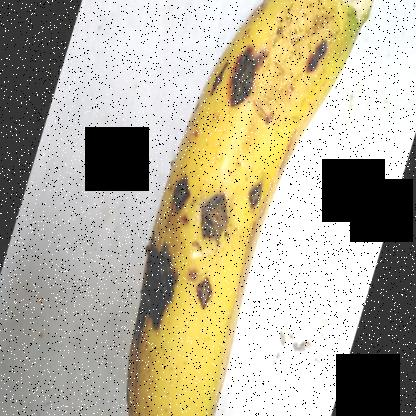rotten: (123, 243, 219, 334), (200, 31, 272, 118), (158, 164, 197, 231), (194, 192, 236, 244), (302, 25, 336, 89)
